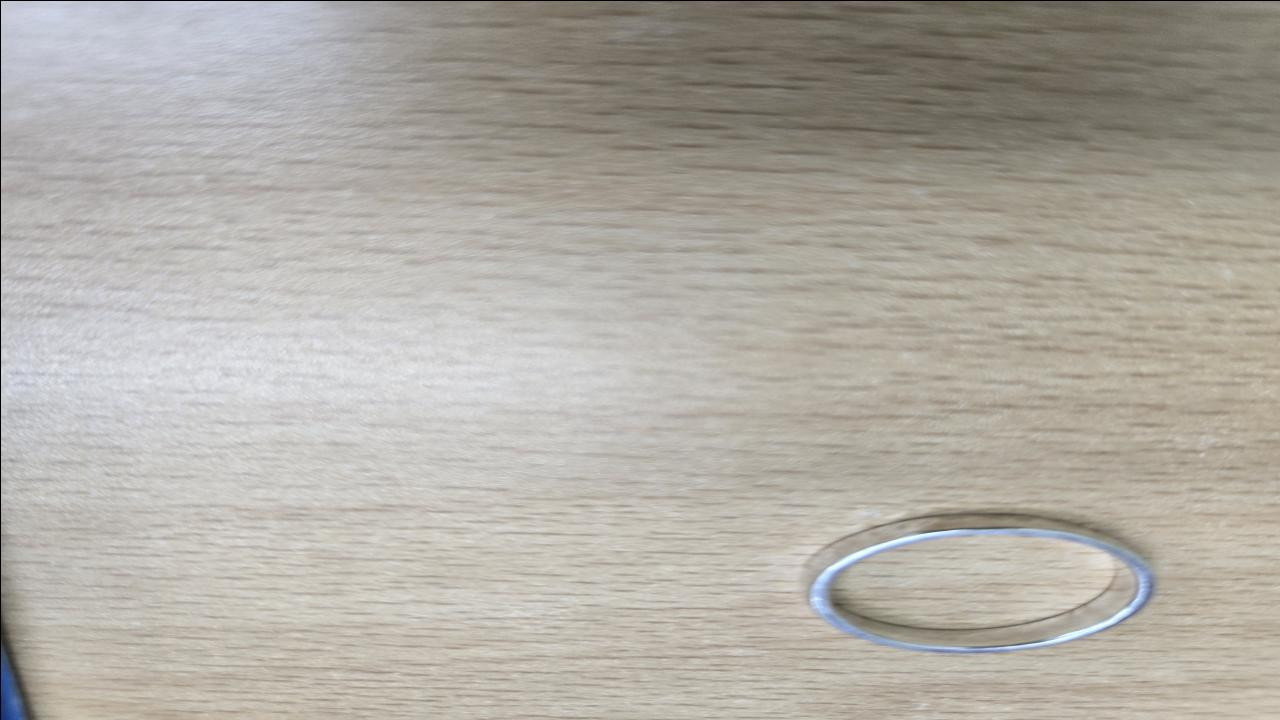ring: (798, 512, 1155, 652)
